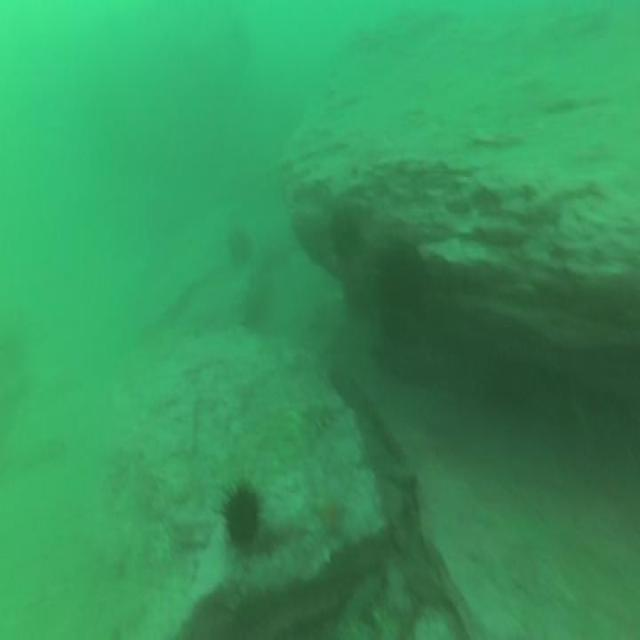echinus: (375, 240, 430, 329), (216, 478, 263, 560), (326, 207, 363, 267), (226, 223, 255, 276)
holothurian: (295, 393, 341, 438)
starfish: (310, 488, 350, 552)
